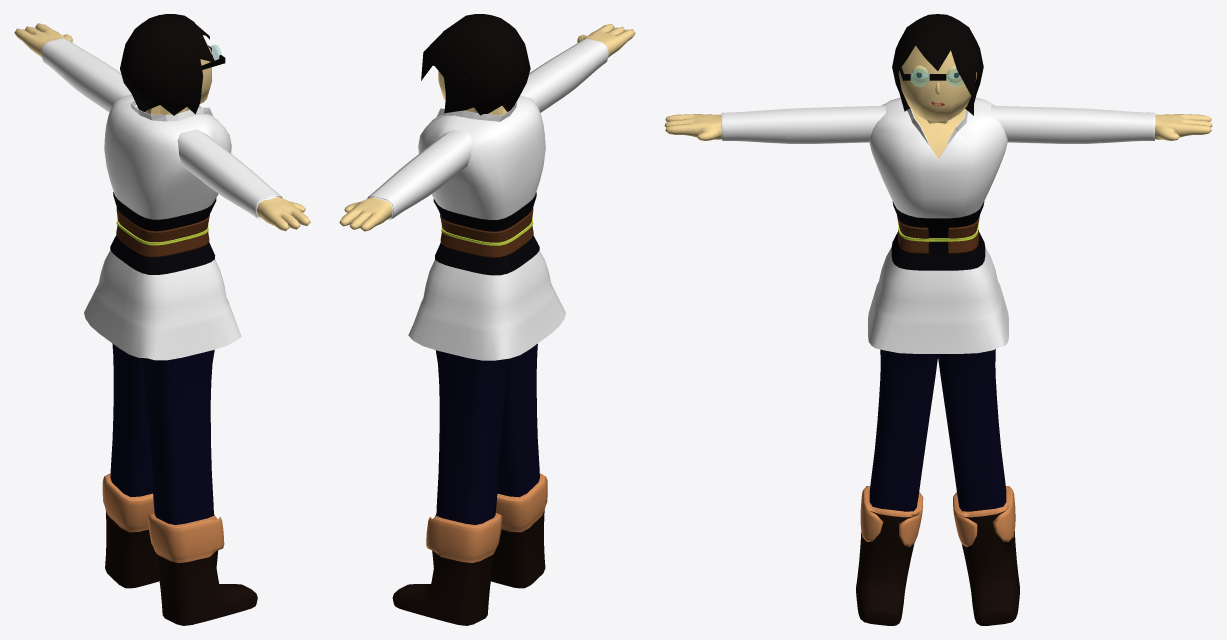
The model's file is ana.fbx.
3 views of the same model, side by side, from view 1: azimuth 30°, elevation 25°; view 2: azimuth 150°, elevation 25°; view 3: azimuth 270°, elevation 25° (orthographic).
Visible parts, largest first — view 1: Box001, Box005, Box004, Sphere001, Box003, Box002; view 2: Box001, Box004, Box005, Sphere001, Box002, Box003; view 3: Box001, Box005, Box004, Sphere001, Box002, Box003, Cylinder001.
Boxes of the visible parts, box(x1,y1,x2,y2) form: Box001: box(84, 94, 241, 360); Box005: box(140, 350, 257, 625); Box004: box(102, 343, 159, 588); Sphere001: box(120, 14, 215, 115); Box003: box(177, 129, 310, 231); Box002: box(14, 23, 131, 112); Box001: box(408, 95, 565, 360); Box004: box(392, 350, 510, 625); Box005: box(491, 343, 547, 588); Sphere001: box(421, 14, 530, 115); Box002: box(339, 129, 472, 231); Box003: box(520, 23, 635, 112); Box001: box(868, 97, 1008, 353); Box005: box(856, 349, 937, 625); Box004: box(938, 349, 1019, 625); Sphere001: box(892, 14, 983, 123); Box002: box(991, 105, 1212, 143); Box003: box(664, 105, 885, 143); Cylinder001: box(898, 63, 976, 86).
Bounding box in the file's own units: 22.27 × 110 × 93.75.
